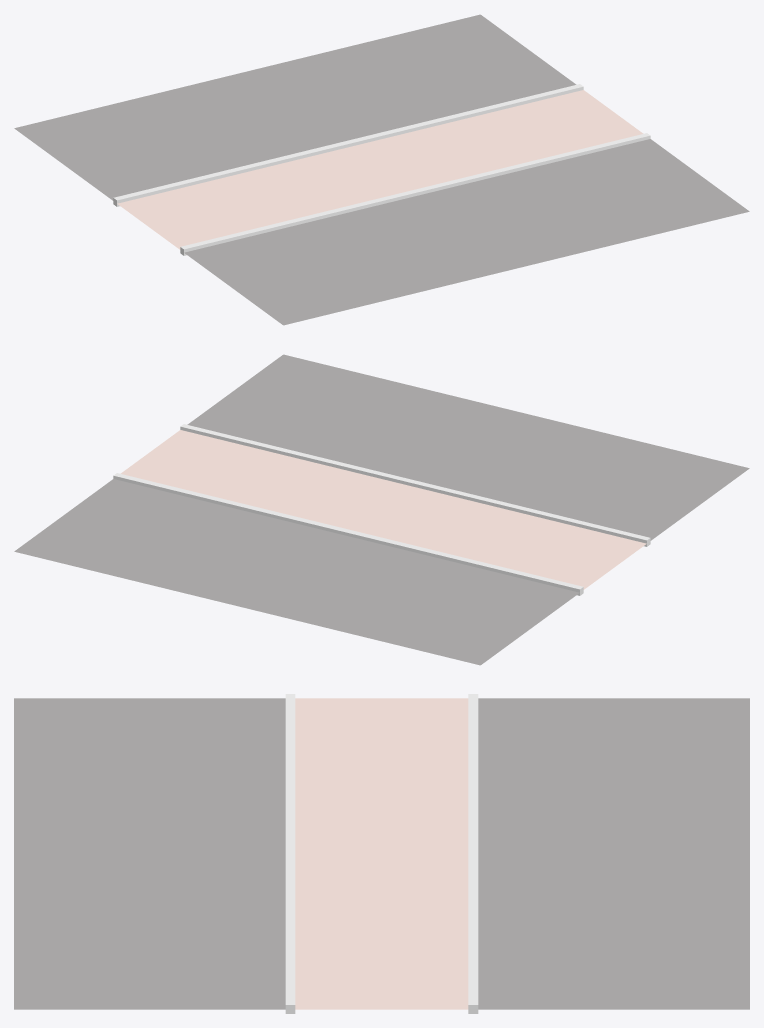
File: building_platform_007.glb
3 views of the same model, one above another, from view 1: azimuth 30°, elevation 25°; view 2: azimuth 150°, elevation 25°; view 3: azimuth 270°, elevation 25° (orthographic). The views are drawn at different scales.
Visible parts, largest first — view 1: building_platform_007; view 2: building_platform_007; view 3: building_platform_007.
Part boxes in pixels (x1,y1,x2,y2): building_platform_007: (14, 14, 749, 325); building_platform_007: (14, 354, 749, 665); building_platform_007: (14, 694, 749, 1013).
Size of the model in its own units: 15 by 0.2 by 15.
1 material, 1 textured.
